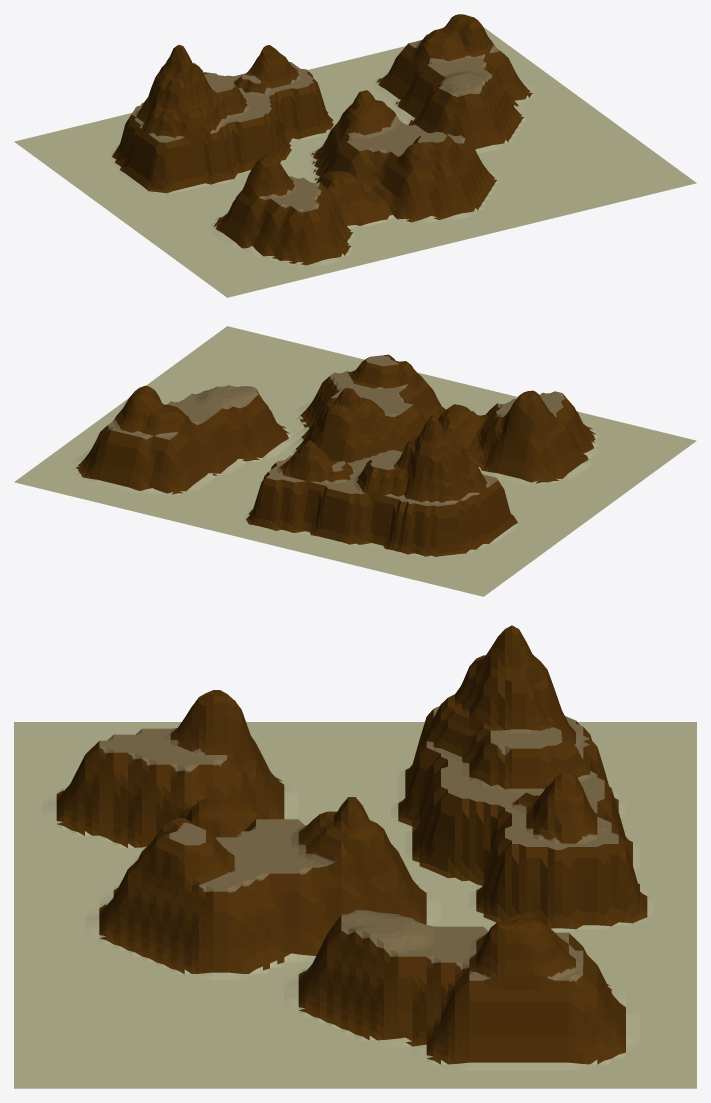
The model's file is Island2.fbx.
3 views of the same model, one above another, from view 1: azimuth 30°, elevation 25°; view 2: azimuth 150°, elevation 25°; view 3: azimuth 270°, elevation 25° (orthographic). The views are drawn at different scales.
Visible parts, largest first — view 1: Island2; view 2: Island2; view 3: Island2.
Boxes of the visible parts, x1=… form: Island2: x1=14, y1=14, x2=696, y2=297; Island2: x1=14, y1=326, x2=696, y2=596; Island2: x1=14, y1=625, x2=696, y2=1088.
Bounding box in the file's own units: 48011 × 11032 × 37779.
